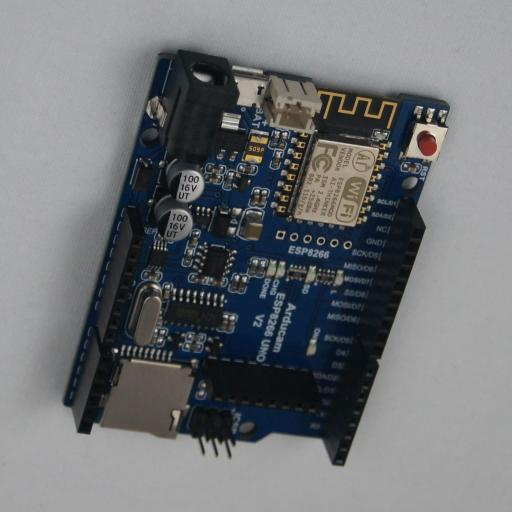Arduino Uno Camera Shield: (62, 47, 450, 466)
